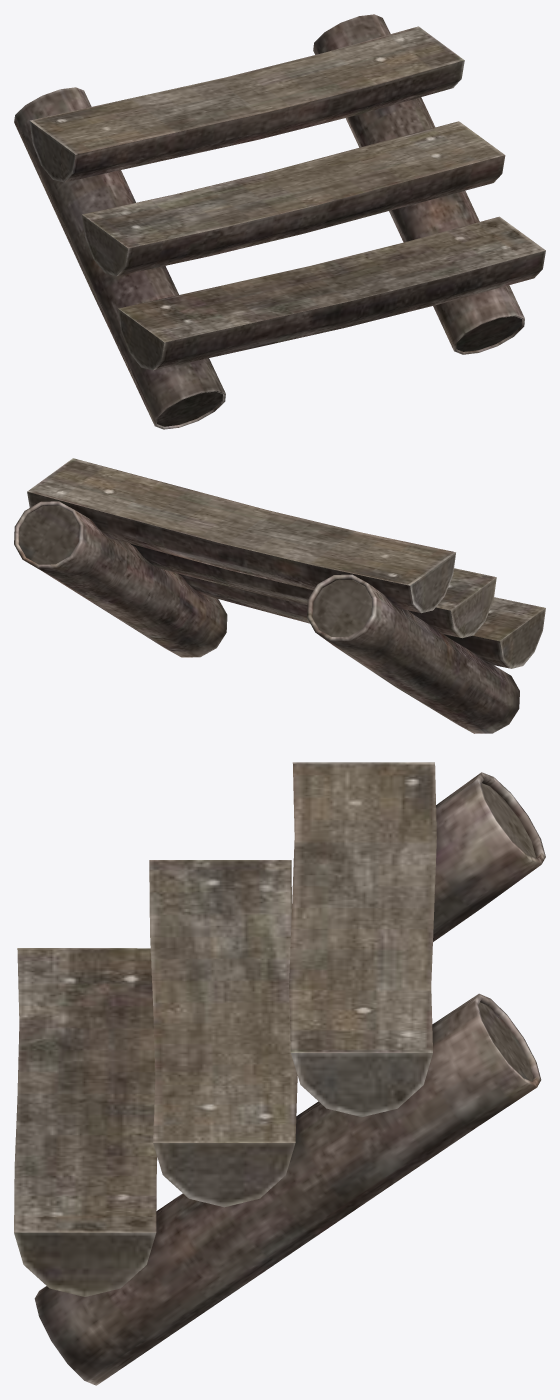
File: Log_Stairs_Short.fbx
3 views of the same model, one above another, from view 1: azimuth 30°, elevation 25°; view 2: azimuth 150°, elevation 25°; view 3: azimuth 270°, elevation 25° (orthographic). The views are drawn at different scales.
Parts seen in each view (by area): view 1: LogStaris_03_GEO; view 2: LogStaris_03_GEO; view 3: LogStaris_03_GEO.
Boxes of the visible parts, left/top/right/bottom form: LogStaris_03_GEO: left=14, top=14, right=545, bottom=429; LogStaris_03_GEO: left=14, top=458, right=545, bottom=733; LogStaris_03_GEO: left=14, top=762, right=545, bottom=1385.
Size of the model in its own units: 108 by 66.37 by 83.38.
